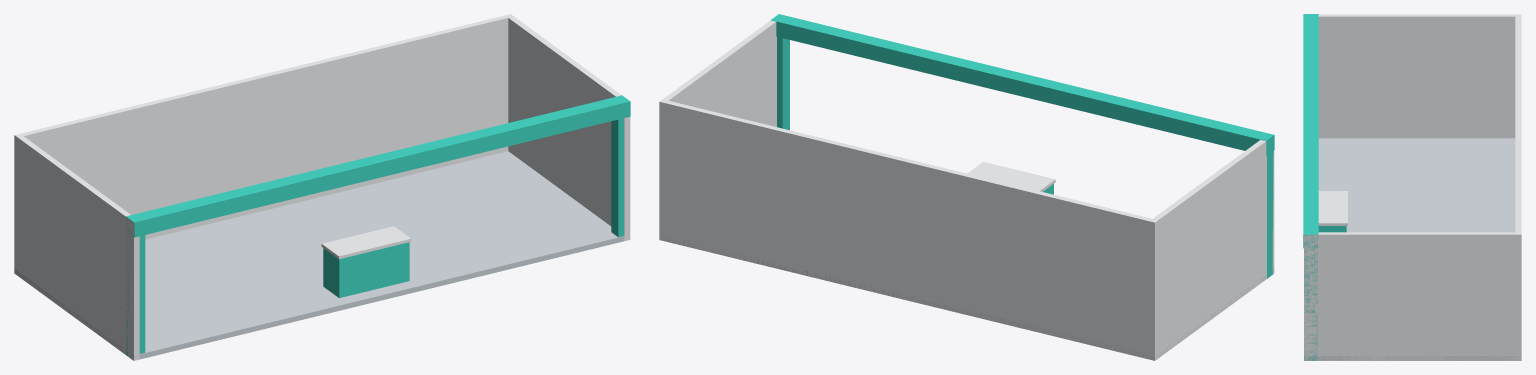
3 views of the same model, side by side, from view 1: azimuth 30°, elevation 25°; view 2: azimuth 150°, elevation 25°; view 3: azimuth 270°, elevation 25° (orthographic). The views are drawn at different scales.
Parts seen in each view (by area): view 1: Exhibition Booth Concept; view 2: Exhibition Booth Concept; view 3: Exhibition Booth Concept.
Boxes of the visible parts, left/top/right/bottom form: Exhibition Booth Concept: left=14, top=14, right=630, bottom=360; Exhibition Booth Concept: left=659, top=14, right=1274, bottom=360; Exhibition Booth Concept: left=1303, top=14, right=1521, bottom=360.
Size of the model in its own units: 12 by 3.2 by 5.02.
